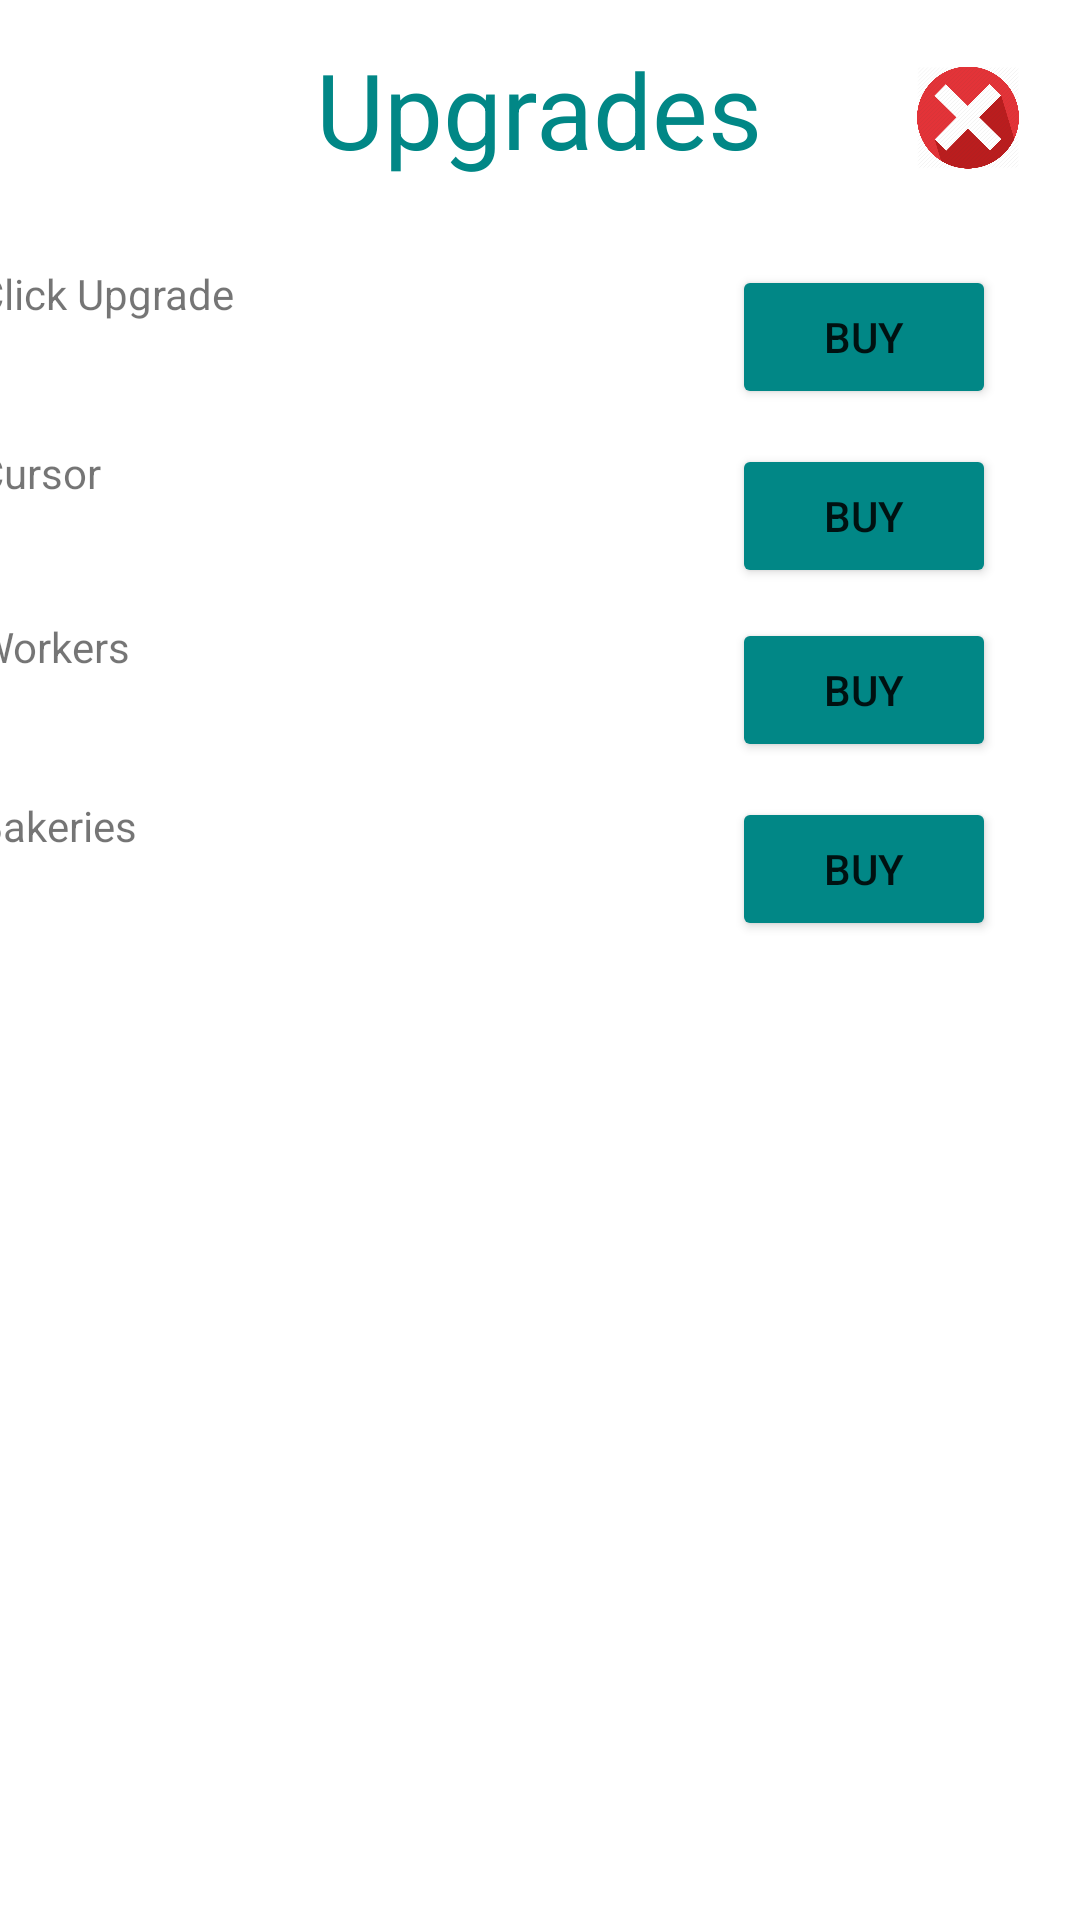

Where to tap for icons on this 1080 x 1920 app screen, as [x,y]:
cross: [968,118]
